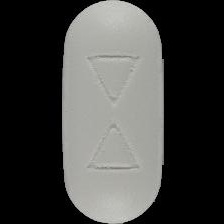63629-3052: (0, 0, 224, 224)
